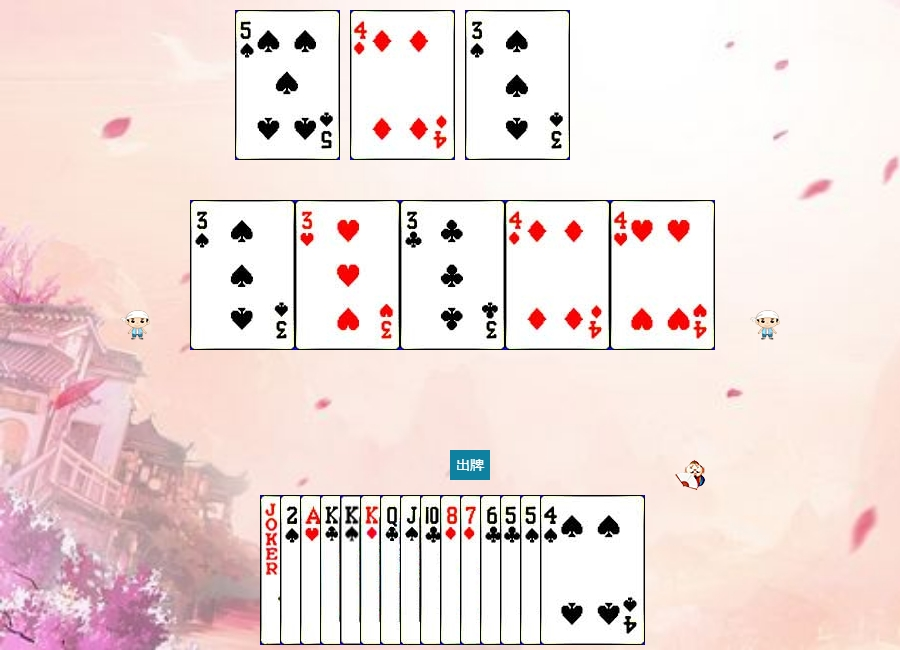10~2: (420, 495, 525, 645)
11~4: (400, 495, 505, 645)
12~2: (380, 495, 485, 645)
13~1: (360, 495, 465, 645)
13~2: (320, 495, 425, 645)
13~4: (340, 495, 445, 645)
14~3: (300, 495, 405, 645)
15~4: (280, 495, 385, 645)
18~4: (260, 495, 365, 645)
3~2: (400, 200, 505, 350)
3~3: (295, 200, 400, 350)
3~4: (465, 10, 570, 160), (190, 200, 295, 350)
4~1: (350, 10, 455, 160), (505, 200, 610, 350)
4~3: (610, 200, 715, 350)
4~4: (540, 495, 645, 645)
5~2: (500, 495, 605, 645)
5~4: (235, 10, 340, 160), (520, 495, 625, 645)
6~2: (480, 495, 585, 645)
7~1: (460, 495, 565, 645)
8~1: (440, 495, 545, 645)
